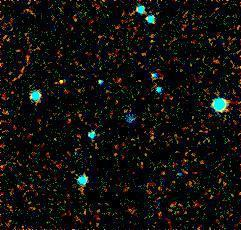star: (42, 63, 72, 93)
